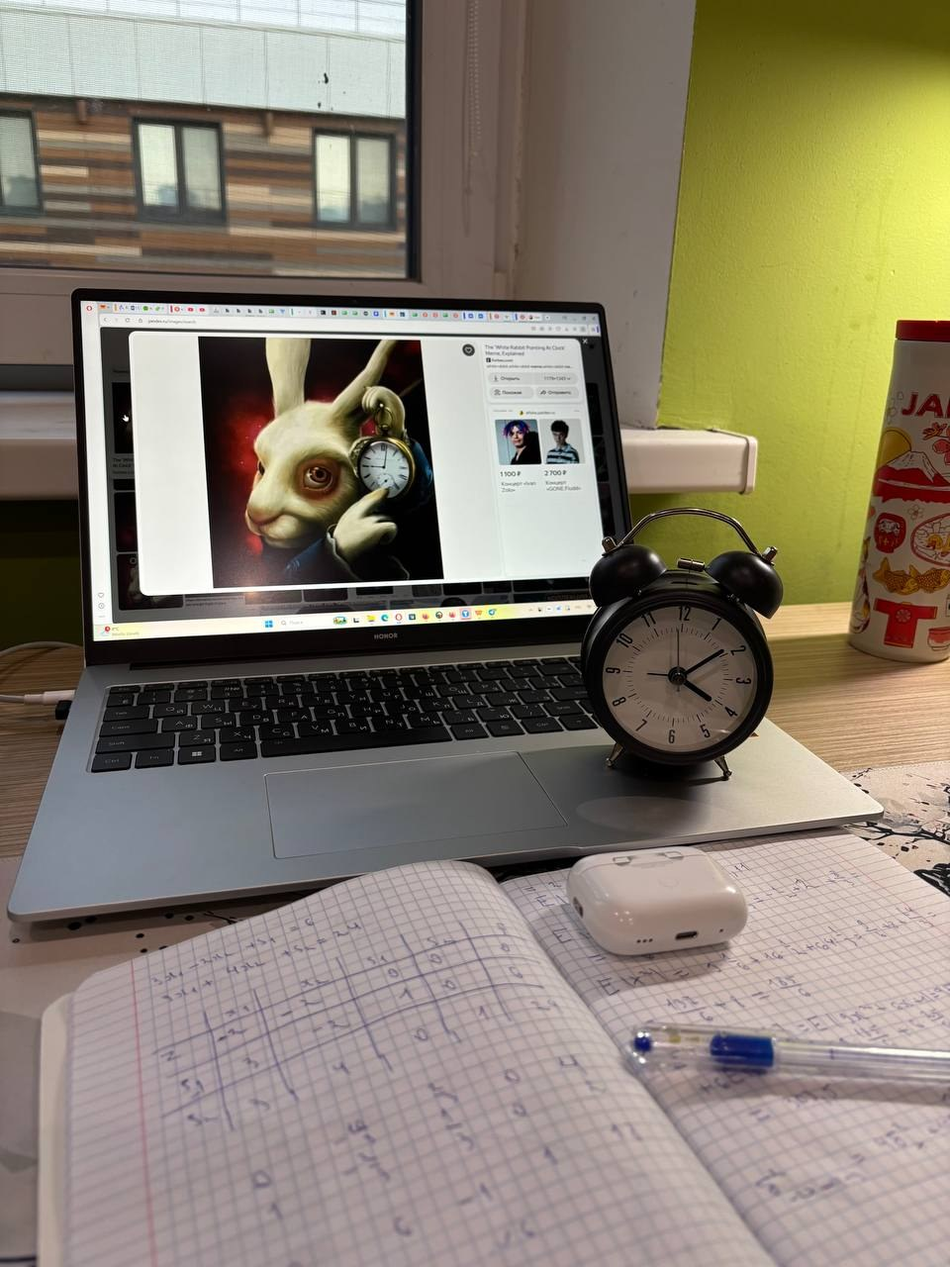laptop: (6, 286, 884, 930)
